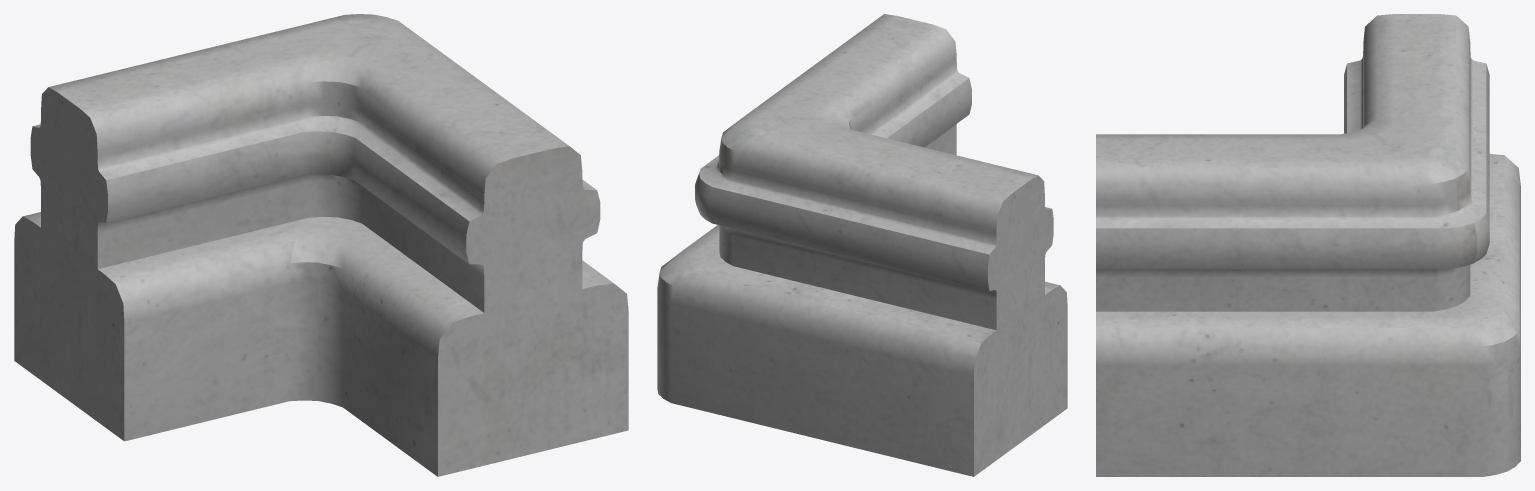
Rendered from ConcreteSafetyL.fbx.
3 renders of one model, left to right at view 1: azimuth 30°, elevation 25°; view 2: azimuth 150°, elevation 25°; view 3: azimuth 270°, elevation 25°, orthographic. The views are drawn at different scales.
Parts seen in each view (by area): view 1: ConcreteSafetyL; view 2: ConcreteSafetyL; view 3: ConcreteSafetyL.
Boxes of the visible parts, box(x1,y1,x2,y2) form: ConcreteSafetyL: box(14, 14, 628, 476); ConcreteSafetyL: box(657, 14, 1067, 476); ConcreteSafetyL: box(1096, 14, 1520, 476).
Size of what is drawn, in the model's own units: 132 by 97.53 by 132.
